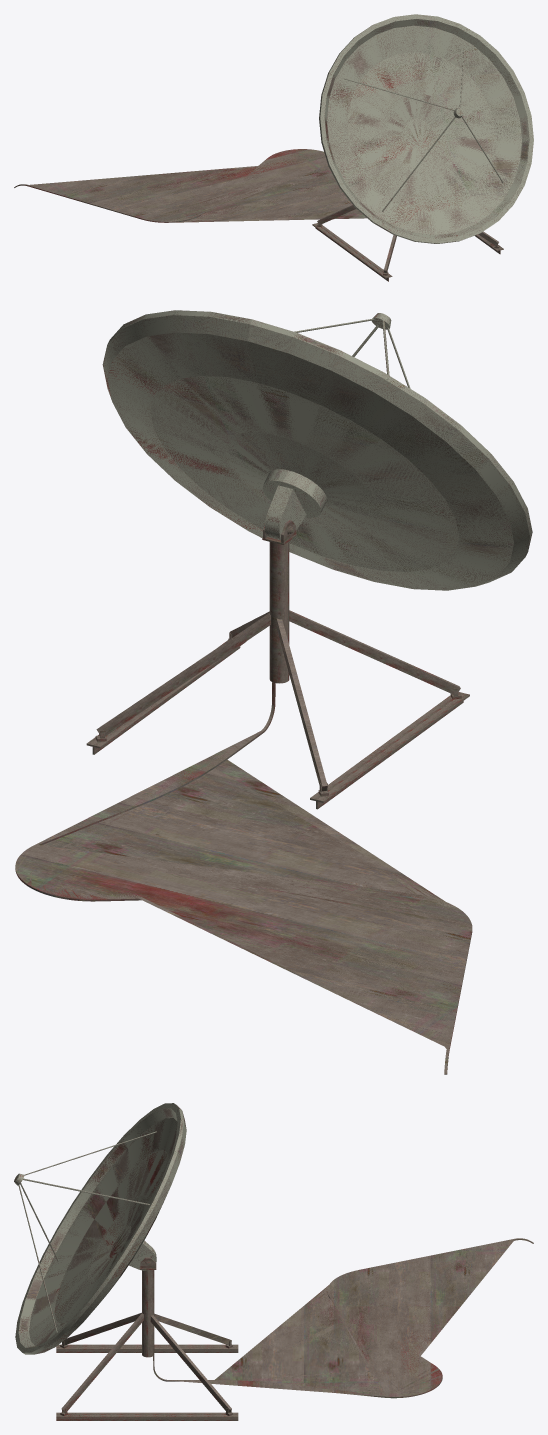
Rendered from Dish.fbx.
The picture shows the model from 3 angles, top to bottom: view 1: azimuth 30°, elevation 25°; view 2: azimuth 150°, elevation 25°; view 3: azimuth 270°, elevation 25°; orthographic projection. The views are drawn at different scales.
Visible parts, largest first — view 1: Group1; view 2: Group1; view 3: Group1.
Boxes of the visible parts, x1,y1,x2,y2 form: Group1: (14,14,533,281); Group1: (15,310,532,1074); Group1: (14,1103,533,1420).
Bounding box in the file's own units: 50.58 × 30.79 × 53.8.
